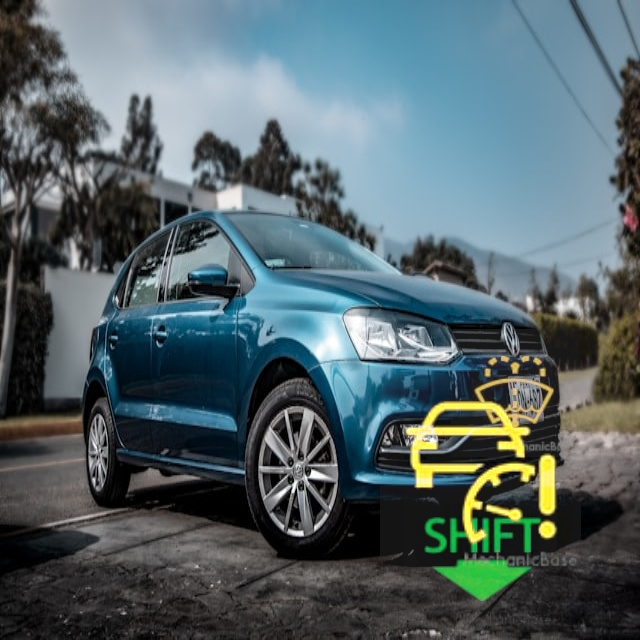symbol: (380, 373, 581, 574), (404, 479, 557, 632), (451, 329, 579, 457)
